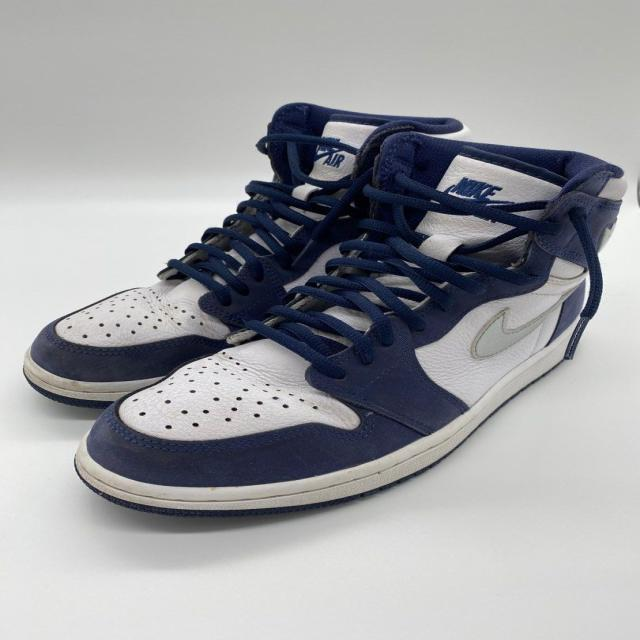nike original jordan 1: (63, 134, 624, 520), (19, 102, 477, 412)
